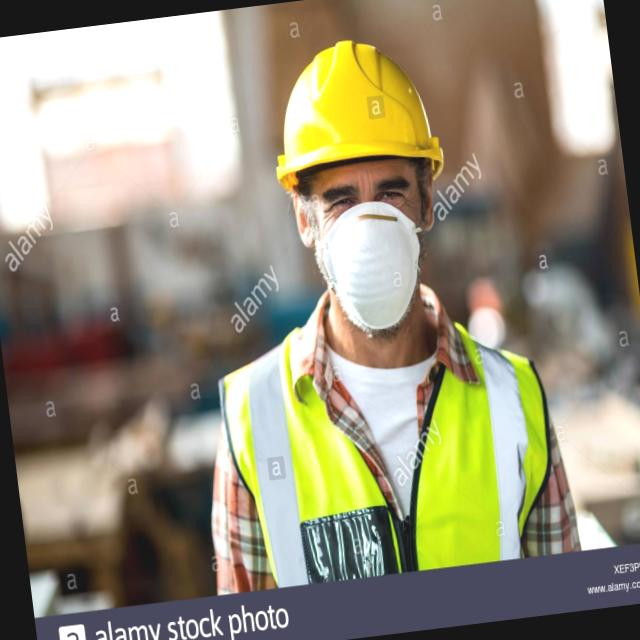helmet: (257, 26, 451, 206)
no-goggles: (271, 146, 458, 250)
vest: (198, 276, 576, 588)
